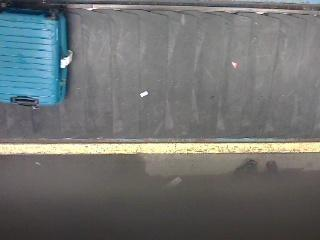Suitcase: (0, 8, 73, 109)
